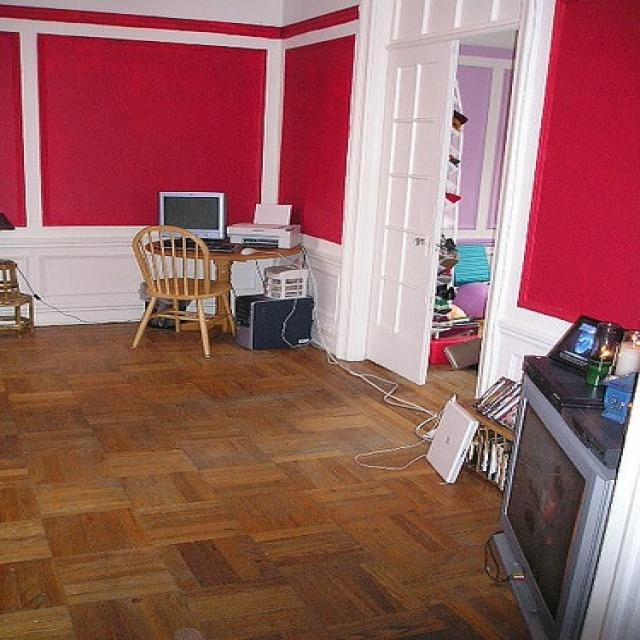chair: (132, 224, 236, 358)
tvmonitor: (497, 368, 618, 638), (157, 191, 227, 238)
